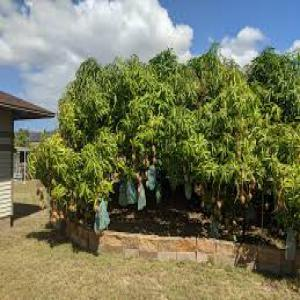Tree: (36, 46, 298, 240)
